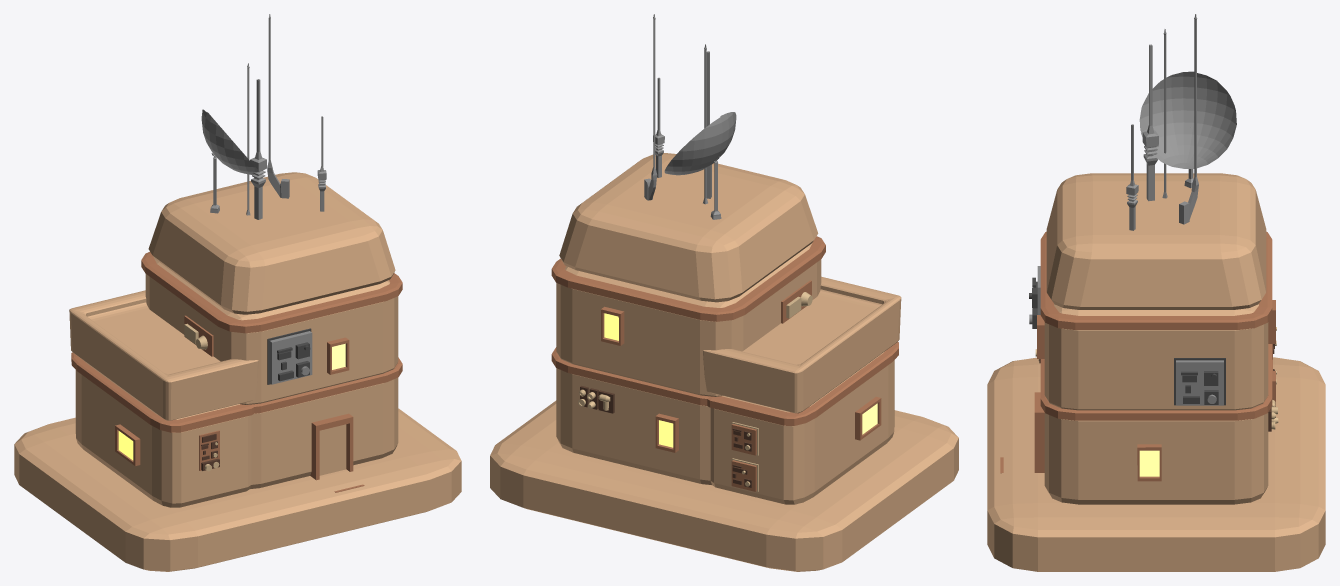
Rendered from nomad_building_21.fbx.
3 renders of one model, left to right at view 1: azimuth 30°, elevation 25°; view 2: azimuth 150°, elevation 25°; view 3: azimuth 270°, elevation 25°, orthographic. The views are drawn at different scales.
Parts seen in each view (by area): view 1: B21_M_Foundation_rectangular, B21_M_R10_square_roof_defualt, B21_M_R01_roof_simple, B21_M_Blk01_rectangular_unit, B21_M_Blk10_base, B21_M_Blk00_base, B21_M_B10_Band_square_diameter_default, B21_M_B01_Band_square_diameter_default, B21_M_B00_Band_square_diameter_default, B21_M_Dish0_AntennaDish_Reflector, B21_M_Panel5_MeterBox_Face001, B21_M_Door_Door_Leaf (+3 smaller); view 2: B21_M_Foundation_rectangular, B21_M_R10_square_roof_defualt, B21_M_Blk10_base, B21_M_R01_roof_simple, B21_M_Blk01_rectangular_unit, B21_M_Blk00_base, B21_M_B10_Band_square_diameter_default, B21_M_B01_Band_square_diameter_default, B21_M_Dish0_AntennaDish_Reflector, B21_M_B00_Band_square_diameter_default, B21_M_Mast0_AntennaMast_Offset, B21_M_S0_Win501_WindowRectLarge_Frame; view 3: B21_M_Foundation_rectangular, B21_M_R10_square_roof_defualt, B21_M_Blk00_base, B21_M_Blk10_base, B21_M_Dish0_AntennaDish_Reflector, B21_M_B10_Band_square_diameter_default, B21_M_B00_Band_square_diameter_default, B21_M_Panel3_MeterBox_Face001, B21_M_Mast1_AntennaMast_Bulky, B21_M_Mast0_AntennaMast_Offset, B21_M_Door_Door_Frame, B21_M_Mast3_AntennaMast_Bulky (+3 smaller).
Boxes of the visible parts, x1,y1,x2,y2 form: B21_M_Foundation_rectangular: (14, 408, 461, 571); B21_M_R10_square_roof_defualt: (148, 172, 395, 314); B21_M_R01_roof_simple: (69, 290, 258, 420); B21_M_Blk01_rectangular_unit: (75, 361, 251, 507); B21_M_Blk10_base: (145, 258, 398, 404); B21_M_Blk00_base: (250, 378, 398, 488); B21_M_B10_Band_square_diameter_default: (141, 252, 402, 333); B21_M_B01_Band_square_diameter_default: (71, 352, 254, 432); B21_M_B00_Band_square_diameter_default: (252, 357, 402, 413); B21_M_Dish0_AntennaDish_Reflector: (201, 109, 259, 174); B21_M_Panel5_MeterBox_Face001: (269, 331, 312, 384); B21_M_Door_Door_Leaf: (319, 424, 346, 475); B21_M_Foundation_rectangular: (490, 400, 958, 571); B21_M_R10_square_roof_defualt: (559, 153, 818, 302); B21_M_Blk10_base: (556, 243, 821, 396); B21_M_R01_roof_simple: (703, 276, 901, 413); B21_M_Blk01_rectangular_unit: (710, 351, 894, 504); B21_M_Blk00_base: (556, 368, 711, 484); B21_M_B10_Band_square_diameter_default: (551, 236, 825, 321); B21_M_B01_Band_square_diameter_default: (707, 342, 898, 425); B21_M_Dish0_AntennaDish_Reflector: (664, 112, 736, 175); B21_M_B00_Band_square_diameter_default: (551, 347, 709, 405); B21_M_Mast0_AntennaMast_Offset: (644, 14, 657, 200); B21_M_S0_Win501_WindowRectLarge_Frame: (855, 396, 881, 440); B21_M_Foundation_rectangular: (987, 357, 1325, 571); B21_M_R10_square_roof_defualt: (1046, 173, 1266, 309); B21_M_Blk00_base: (1044, 413, 1268, 504); B21_M_Blk10_base: (1044, 304, 1268, 410); B21_M_Dish0_AntennaDish_Reflector: (1139, 71, 1236, 168); B21_M_B10_Band_square_diameter_default: (1040, 231, 1272, 329); B21_M_B00_Band_square_diameter_default: (1040, 344, 1272, 420); B21_M_Panel3_MeterBox_Face001: (1176, 360, 1223, 405); B21_M_Mast1_AntennaMast_Bulky: (1142, 44, 1158, 201); B21_M_Mast0_AntennaMast_Offset: (1179, 14, 1198, 224); B21_M_Door_Door_Frame: (1034, 392, 1044, 472); B21_M_Mast3_AntennaMast_Bulky: (1126, 124, 1138, 230).
Bounding box in the file's own units: 353 × 460 × 281.
